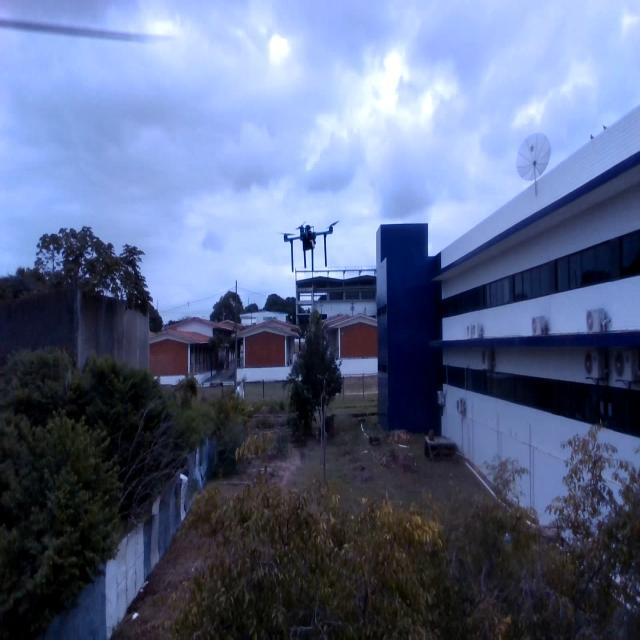-uav-: (276, 206, 342, 278)
